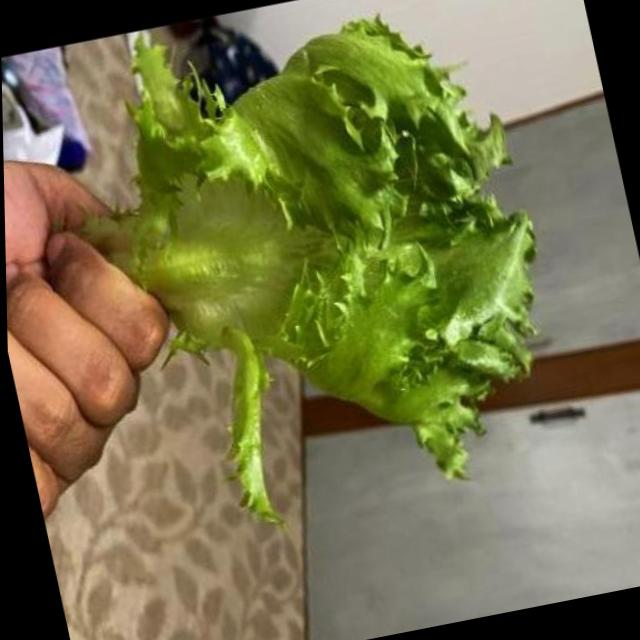Mature: (88, 18, 536, 520)
